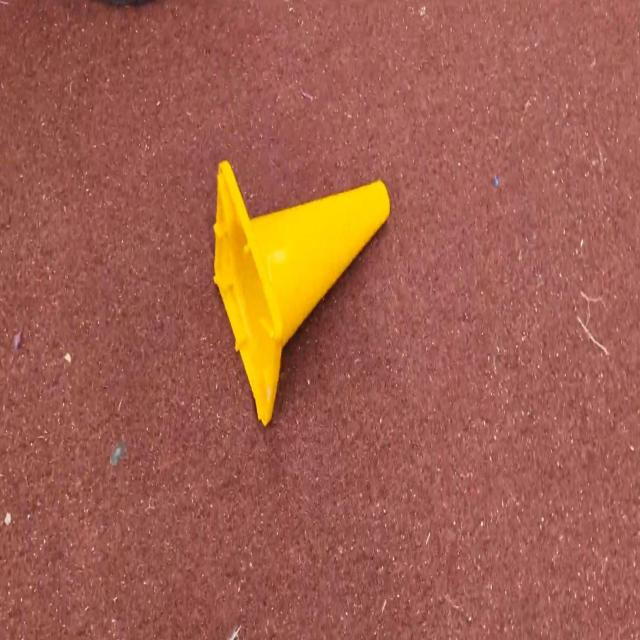frc_cone: (212, 155, 390, 426)
